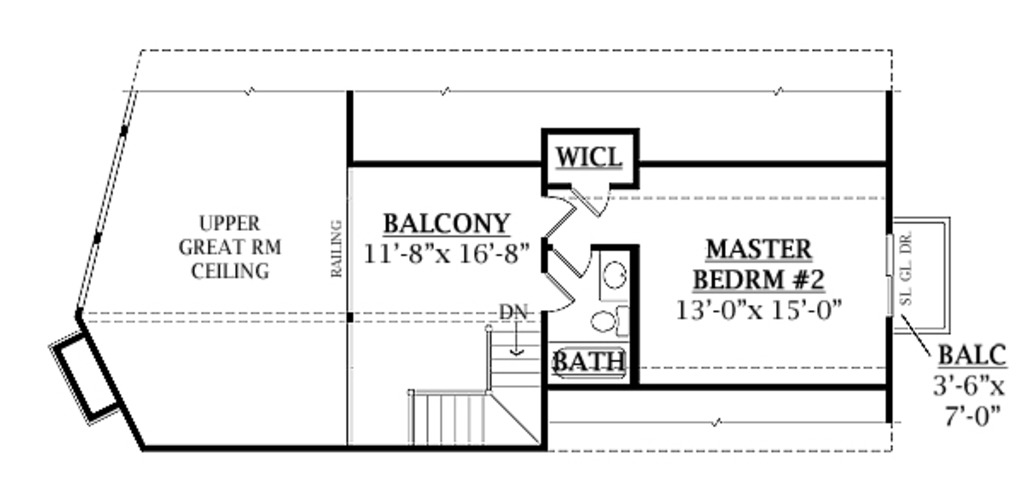door: (565, 176, 613, 218), (545, 192, 574, 239), (555, 244, 594, 277), (540, 274, 575, 310)
large_sink: (583, 307, 632, 343)
small_sink: (600, 254, 628, 303)
stairs: (400, 306, 545, 446)
tub: (541, 336, 634, 382)
window: (882, 234, 894, 318)
